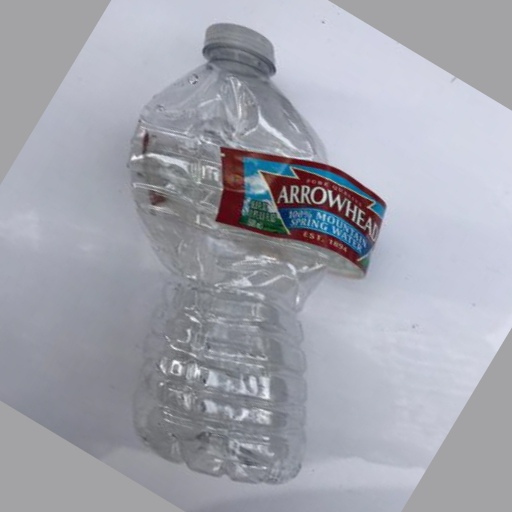Plastic_0: (132, 23, 313, 492)
